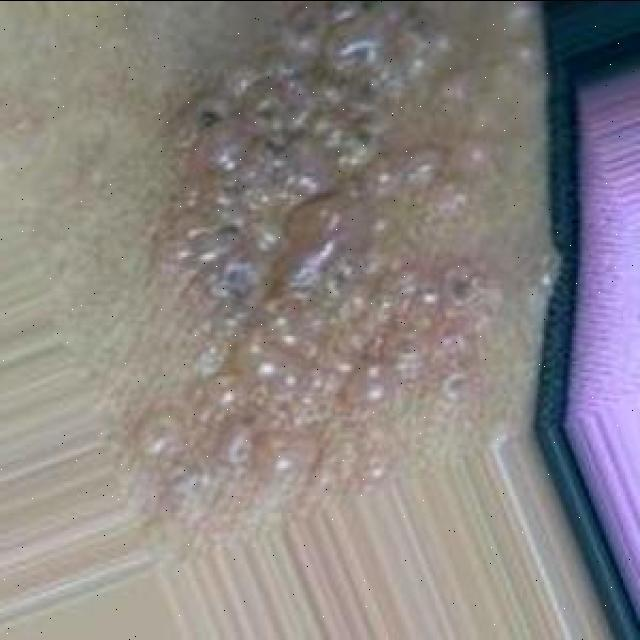Shingles: (134, 0, 493, 491)
